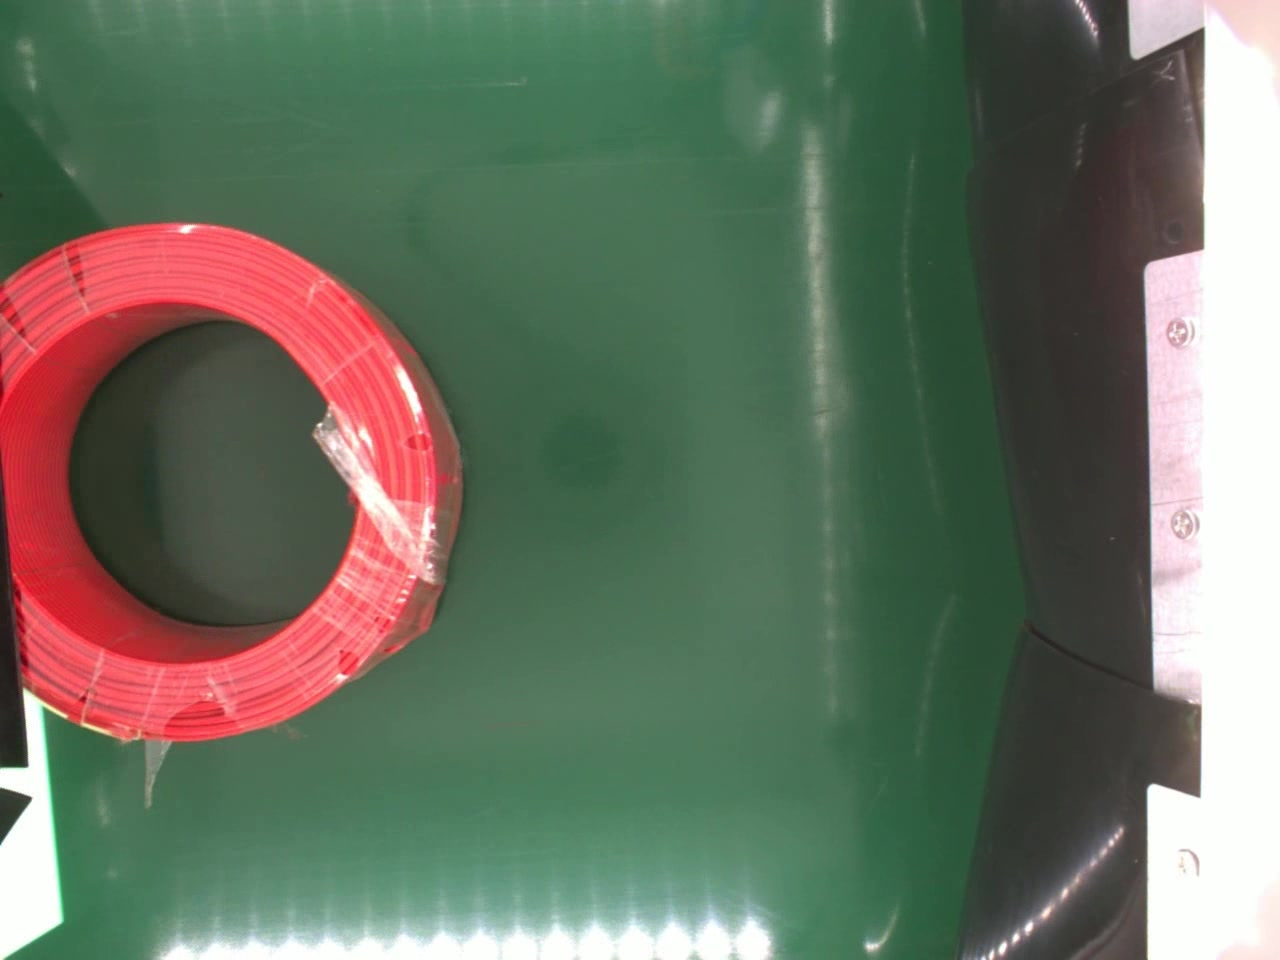red: (0, 217, 464, 750)
